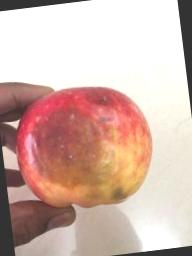Apple Overripe: (13, 80, 158, 214)
